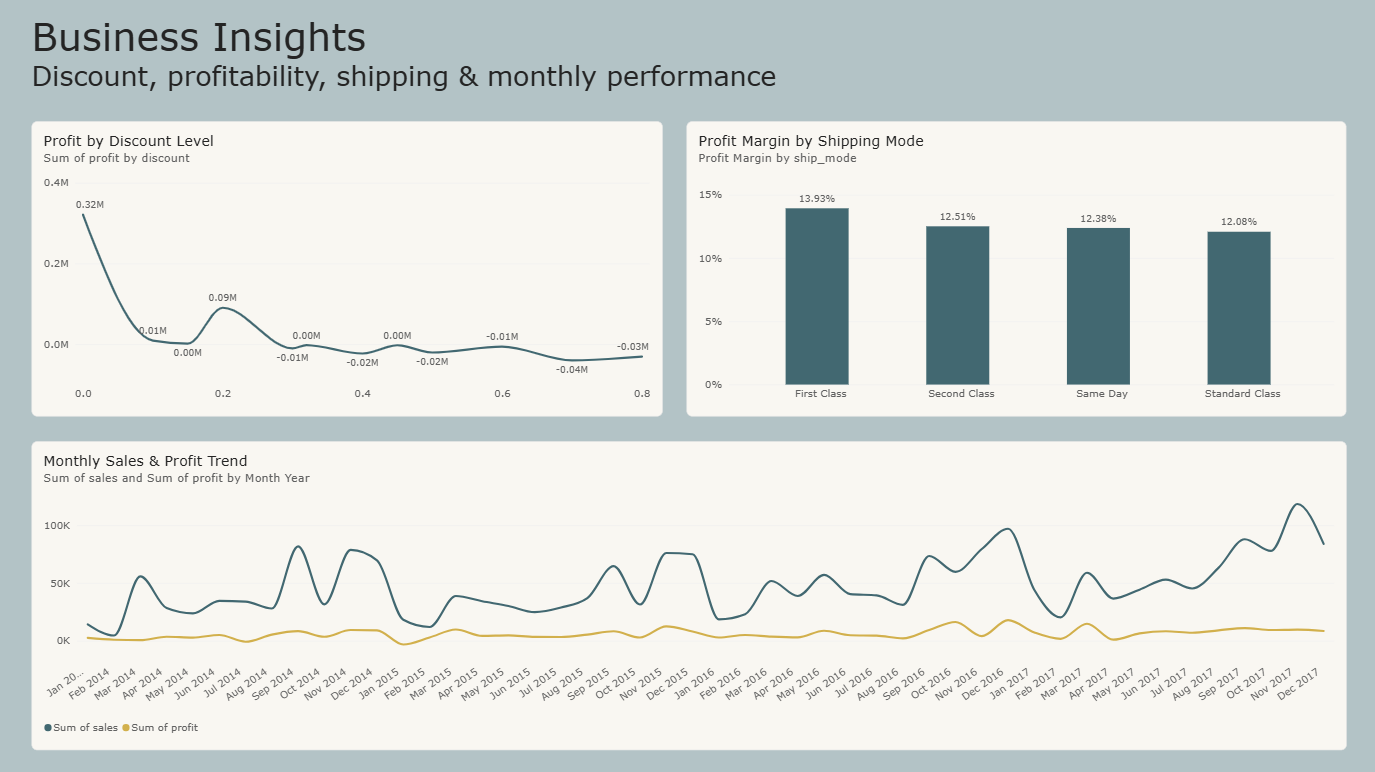

The page's visual inventory and layout, read from the dashboard file:
{"tool":"powerbi","page":{"name":"Business Insights","canvas":[1920,1080],"ordinal":2},"visuals":[{"type":"lineChart","title":"Profit by Discount Level","fields":{"Category":["superstore sales.discount"],"Y":["Sum(superstore sales.profit)"]},"box":[45.3,169.2,880.8,411.6],"z":0},{"type":"lineChart","title":"Monthly Sales & Profit Trend","fields":{"Category":["superstore sales.Month Year"],"Y":["Sum(superstore sales.sales)","Sum(superstore sales.profit)"]},"box":[45.3,615.7,1834.9,430.8],"z":1000},{"type":"clusteredColumnChart","title":"Profit Margin by Shipping Mode","fields":{"Category":["superstore sales.ship_mode"],"Y":["superstore sales.Profit Margin"]},"box":[959.3,169.2,920.9,411.6],"z":2000},{"type":"textbox","box":[45.3,0,1834.9,169.2],"z":3000}]}

Visuals, with their boxes in screenshot pixels (x1, y1, x2, y2), scaled from the page's 1920x1080 canvas onto the 1375x772 screenshot:
"Profit by Discount Level" lineChart: <box>32,121,663,415</box>
"Monthly Sales & Profit Trend" lineChart: <box>32,440,1346,748</box>
"Profit Margin by Shipping Mode" clusteredColumnChart: <box>687,121,1346,415</box>
textbox: <box>32,0,1346,121</box>
